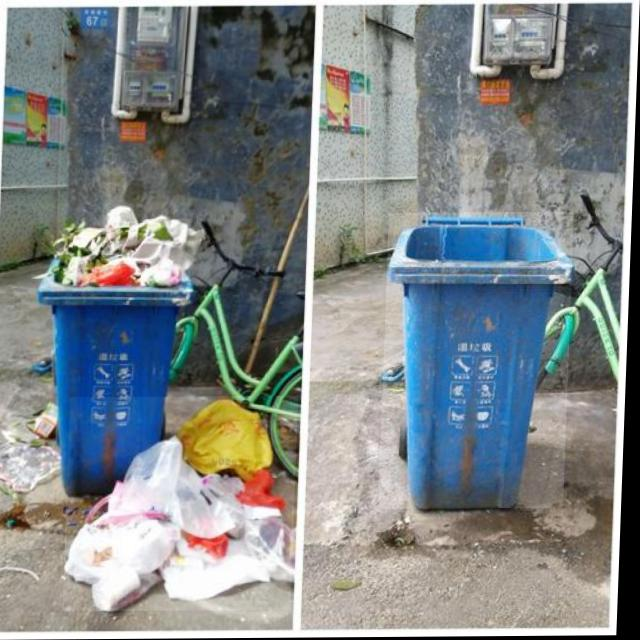garbage: (68, 396, 302, 612)
garbage_bin: (382, 213, 576, 510)
overflow: (32, 203, 205, 496)
